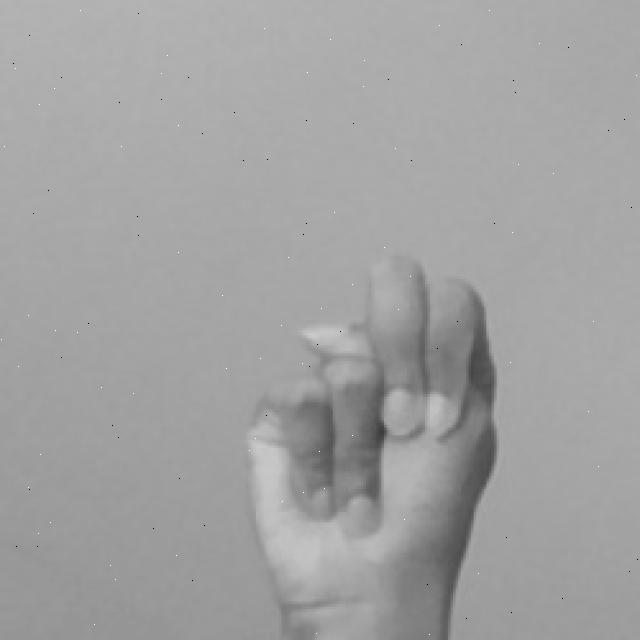N: (230, 253, 506, 640)
